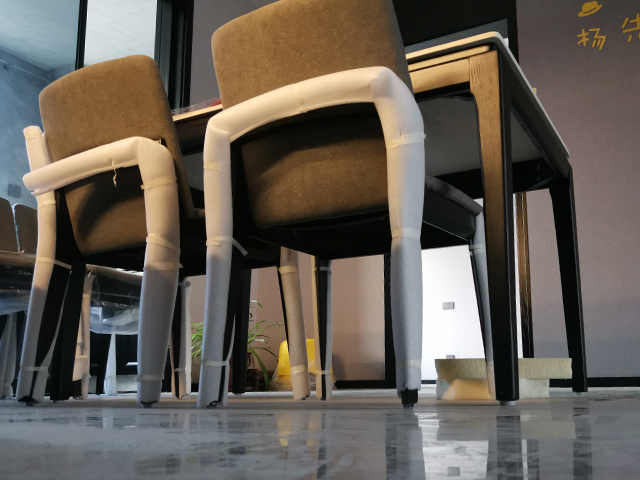stool: (200, 1, 496, 411), (23, 52, 305, 409), (1, 195, 193, 401), (276, 338, 337, 397)
table: (46, 29, 590, 409)
